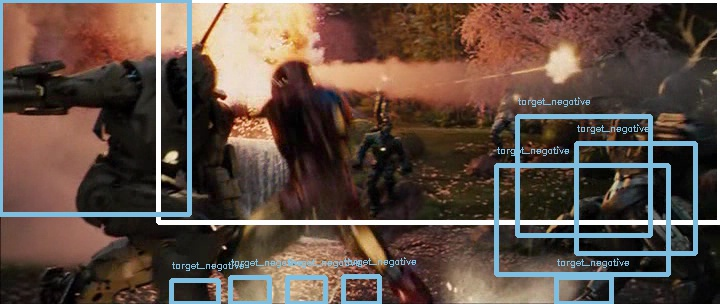person: (271, 61, 313, 98), (270, 61, 312, 98), (272, 61, 314, 98), (271, 60, 313, 97), (271, 62, 313, 99)
target_negative: (488, 13, 654, 160), (346, 170, 494, 293), (122, 295, 206, 304), (654, 185, 680, 209), (356, 135, 391, 150)
